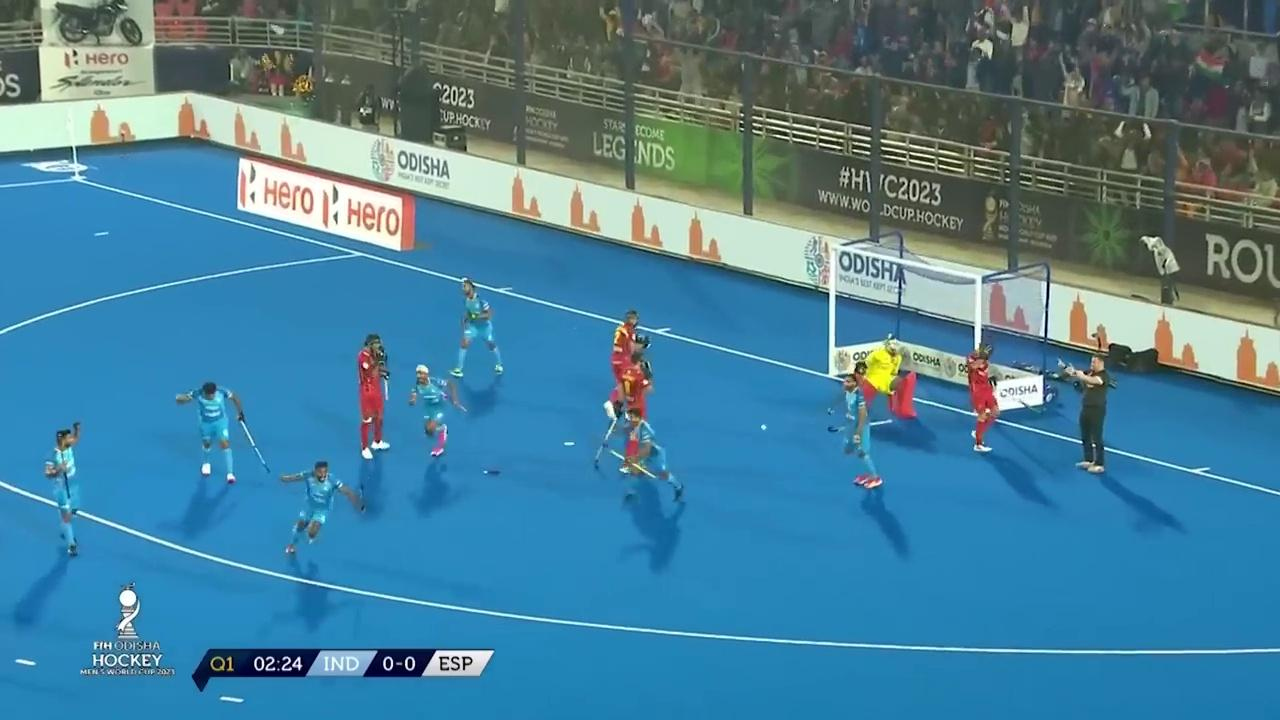ball: (759, 419, 771, 439)
